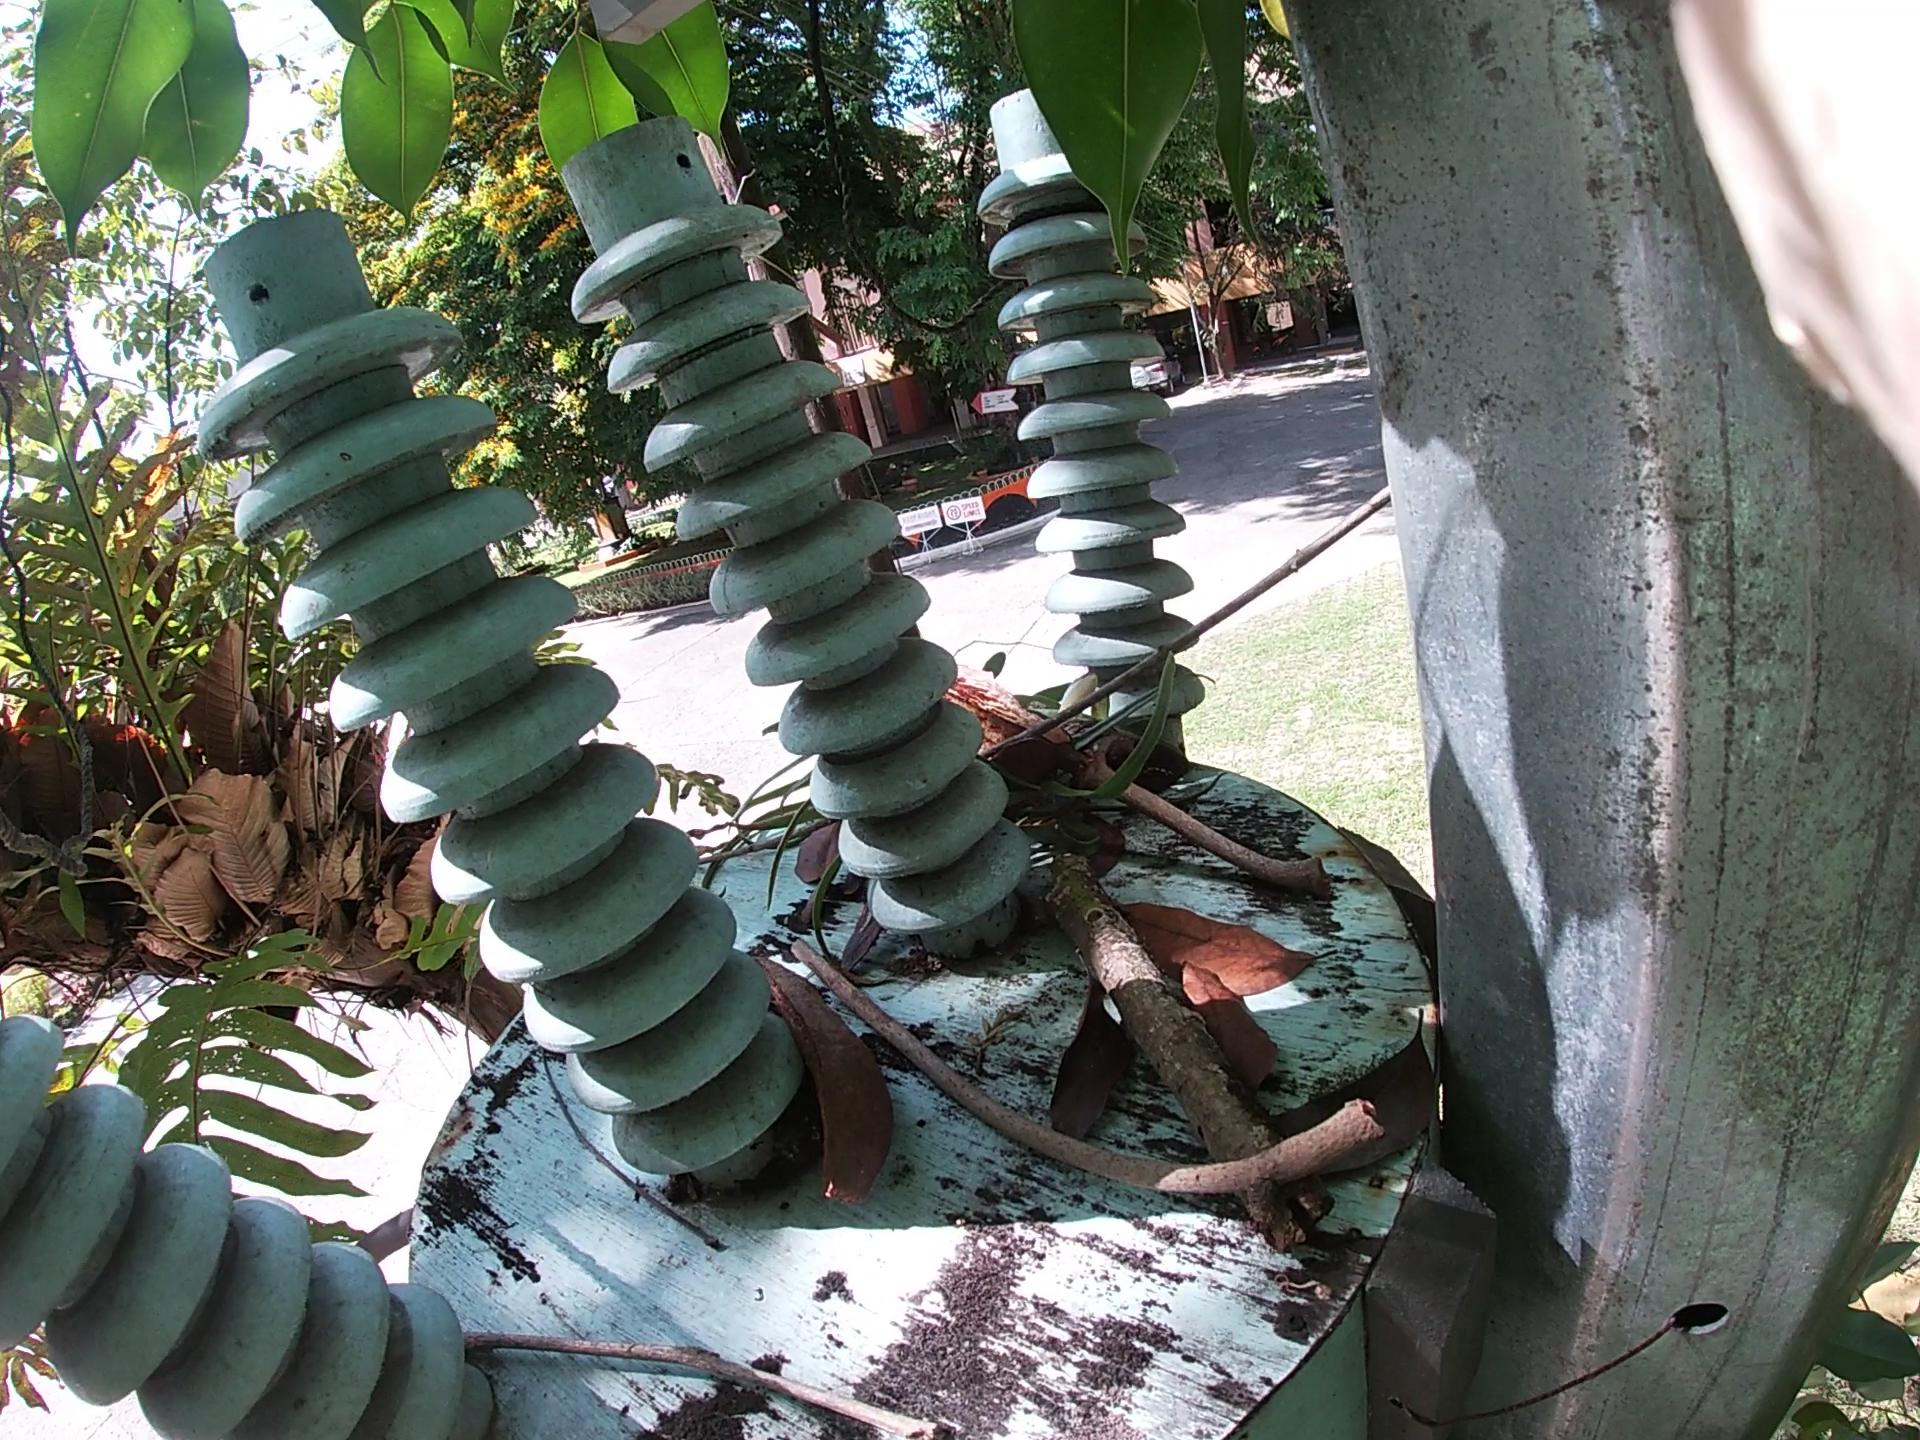branch with leaves: (965, 637, 1438, 1181)
leaf: (1063, 849, 1367, 1190)
tree branch: (831, 327, 1450, 861), (732, 897, 1341, 1221), (461, 1257, 1070, 1423), (1079, 691, 1355, 923)
